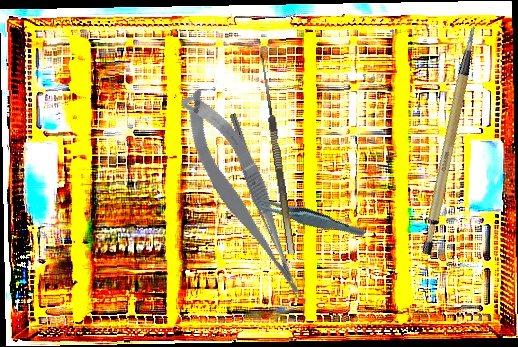Hook Surgical: (249, 53, 295, 256), (227, 112, 286, 259)
Micro Scissor: (172, 78, 314, 316)
Scalpel Handle: (392, 24, 513, 257)
Tissue Forceps: (247, 171, 367, 261)
